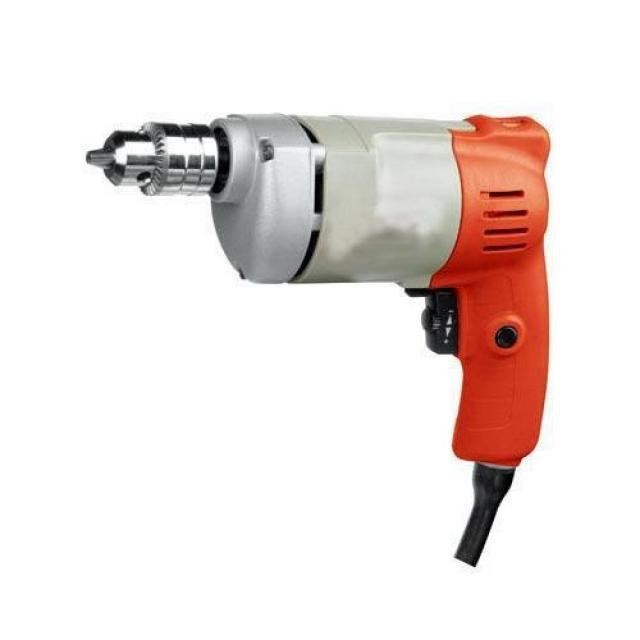drill: (85, 113, 554, 574)
